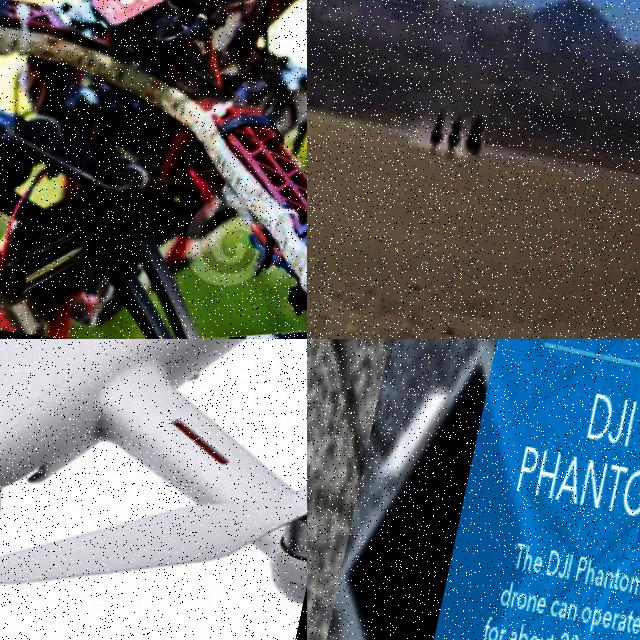drone: (0, 0, 307, 339), (0, 339, 307, 640)
